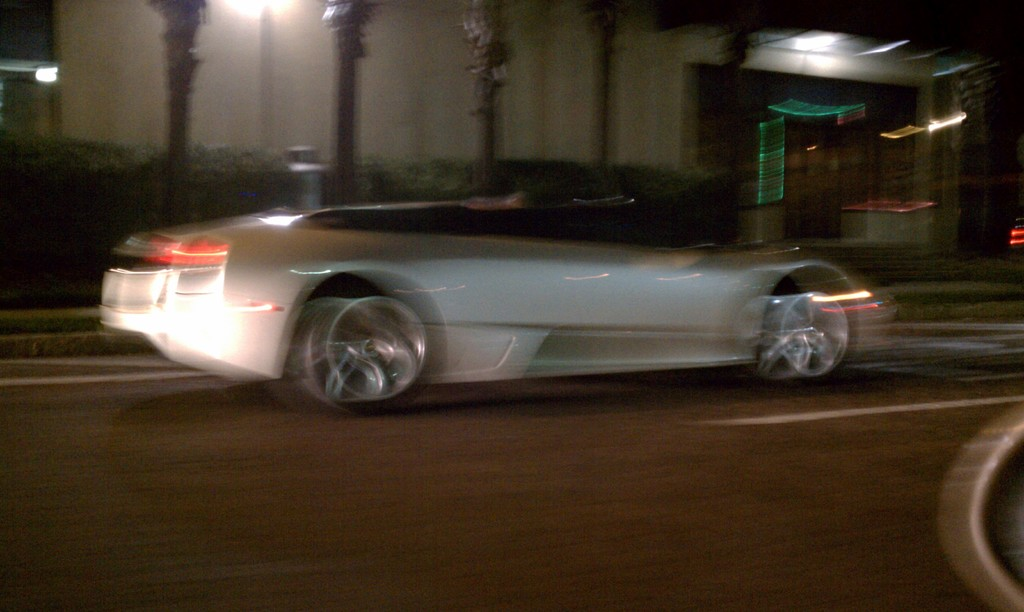mobil: (116, 173, 881, 406)
